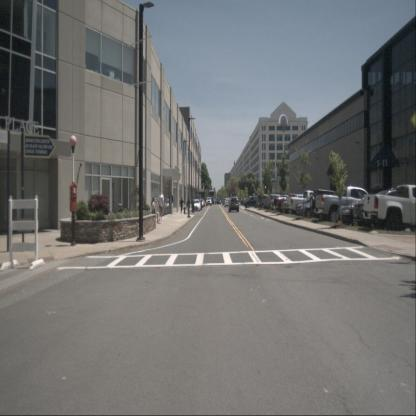human-pedestrian-adult: (151, 196, 160, 224), (158, 190, 164, 221), (169, 192, 173, 214), (186, 198, 190, 216), (180, 197, 184, 213), (192, 199, 194, 214)
vehicle-car: (352, 189, 411, 230), (336, 195, 386, 228), (310, 189, 346, 221), (296, 194, 326, 218), (281, 195, 311, 215), (298, 200, 330, 218), (243, 196, 258, 209), (228, 197, 239, 212), (193, 195, 202, 210), (192, 199, 200, 212), (164, 198, 172, 208), (224, 198, 231, 207), (206, 197, 212, 206), (222, 198, 227, 206), (215, 198, 219, 205), (217, 198, 221, 204)
vehicle-truck: (362, 184, 416, 233), (314, 186, 375, 224), (286, 190, 325, 216), (274, 193, 304, 214), (209, 189, 215, 205)
